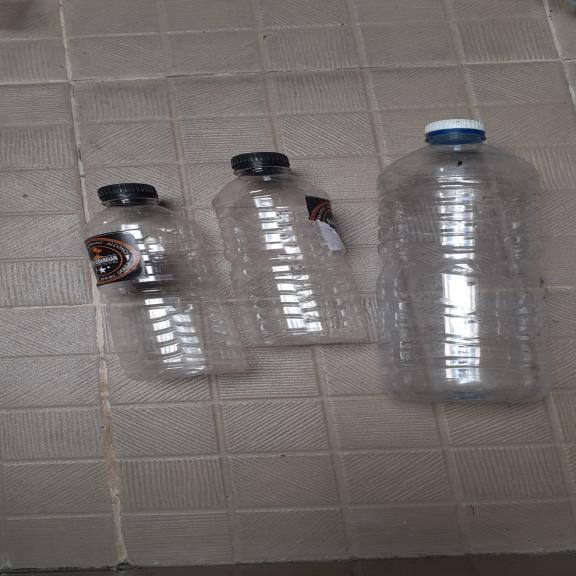Plastik: (377, 116, 558, 411), (91, 181, 258, 380), (211, 148, 375, 345)
